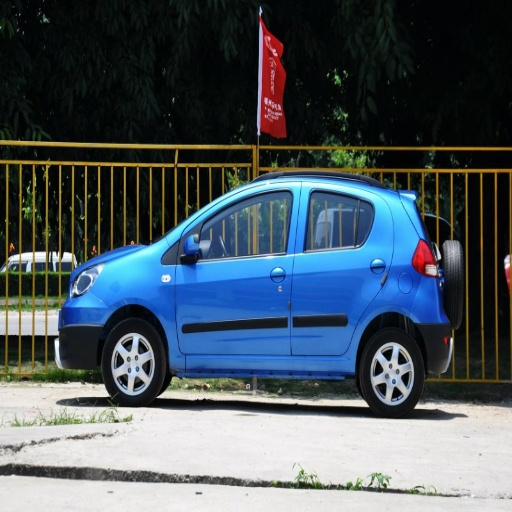back_left_door: (292, 181, 387, 367)
front_left_door: (176, 182, 299, 365)
